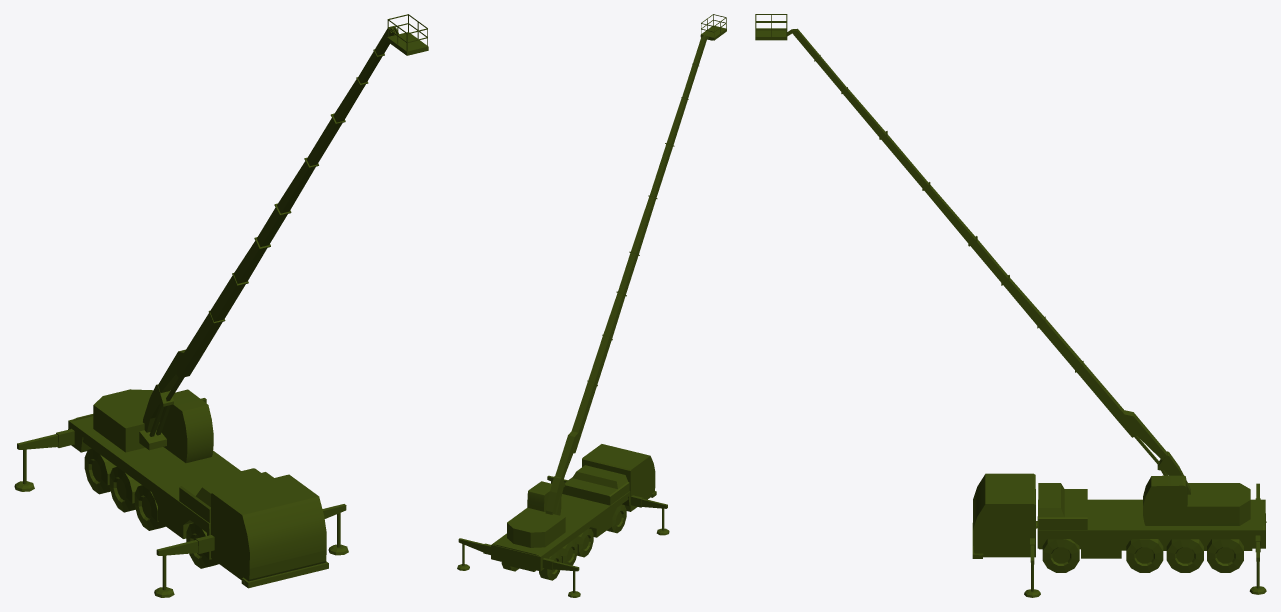
The model's file is Vehicle10_M.fbx.
3 views of the same model, side by side, from view 1: azimuth 30°, elevation 25°; view 2: azimuth 150°, elevation 25°; view 3: azimuth 270°, elevation 25° (orthographic). The views are drawn at different scales.
Visible parts, largest first — view 1: Vehicle10; view 2: Vehicle10; view 3: Vehicle10.
Part boxes in pixels (x1,y1,x2,y2): Vehicle10: [14, 14, 428, 597]; Vehicle10: [457, 14, 726, 597]; Vehicle10: [755, 14, 1266, 597].
Size of the model in its own units: 6.89 by 22.84 by 19.61.
